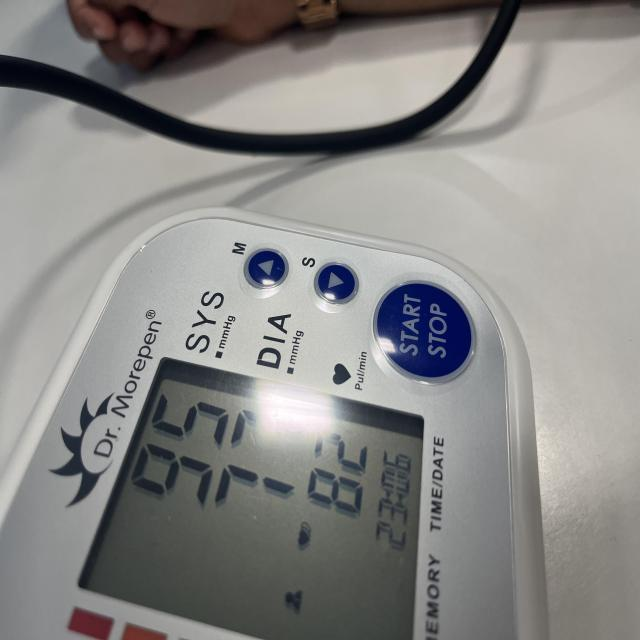bp: (0, 206, 550, 640)
